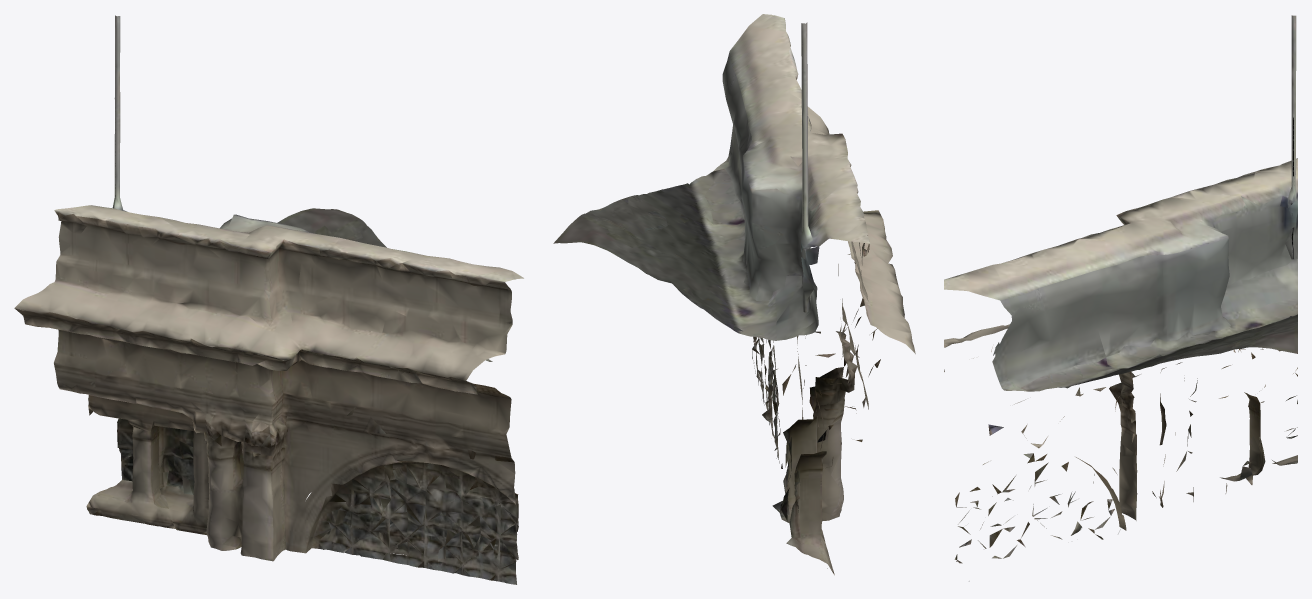
3 renders of one model, left to right at view 1: azimuth 30°, elevation 25°; view 2: azimuth 150°, elevation 25°; view 3: azimuth 270°, elevation 25°, orthographic. The views are drawn at different scales.
Size of the model in its own units: 8.45 by 12.34 by 8.46.
1 material, 1 textured.
